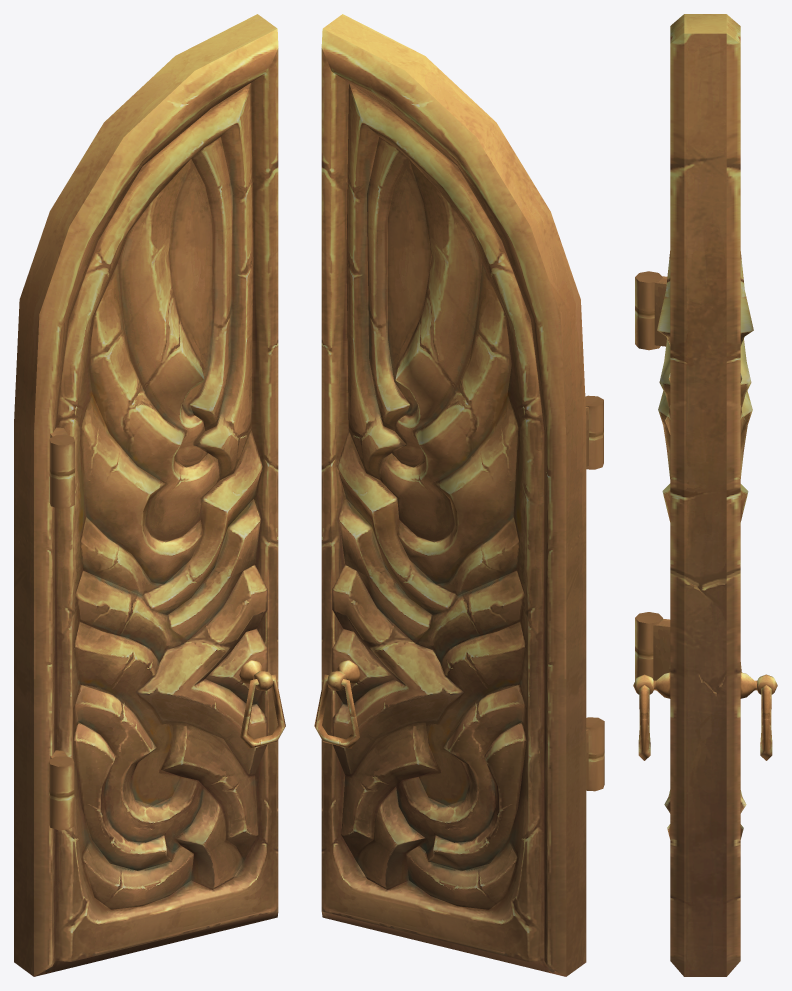
File: Door_Bronze_01.FBX
3 views of the same model, side by side, from view 1: azimuth 30°, elevation 25°; view 2: azimuth 150°, elevation 25°; view 3: azimuth 270°, elevation 25° (orthographic). The views are drawn at different scales.
Visible parts, largest first — view 1: Door_Bronze_01; view 2: Door_Bronze_01; view 3: Door_Bronze_01.
Part boxes in pixels (x1,y1,x2,y2): Door_Bronze_01: (14,14,285,976); Door_Bronze_01: (314,14,604,976); Door_Bronze_01: (633,14,777,976).
Size of the model in its own units: 138 by 66.91 by 481.
